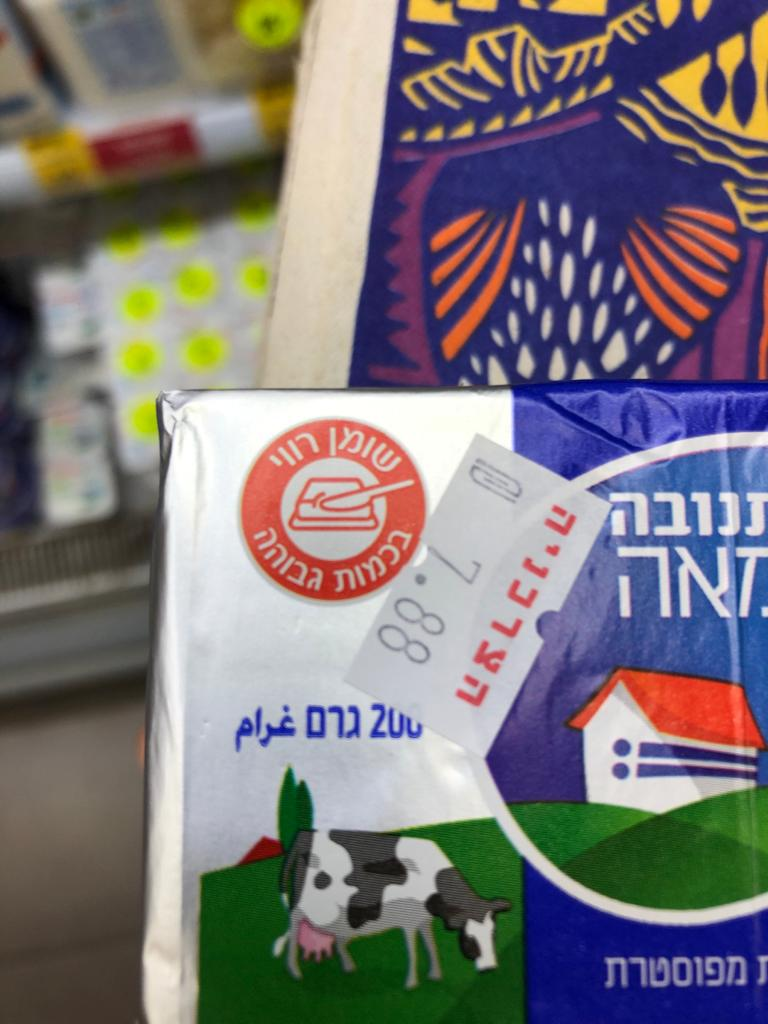fat: (239, 416, 428, 604)
